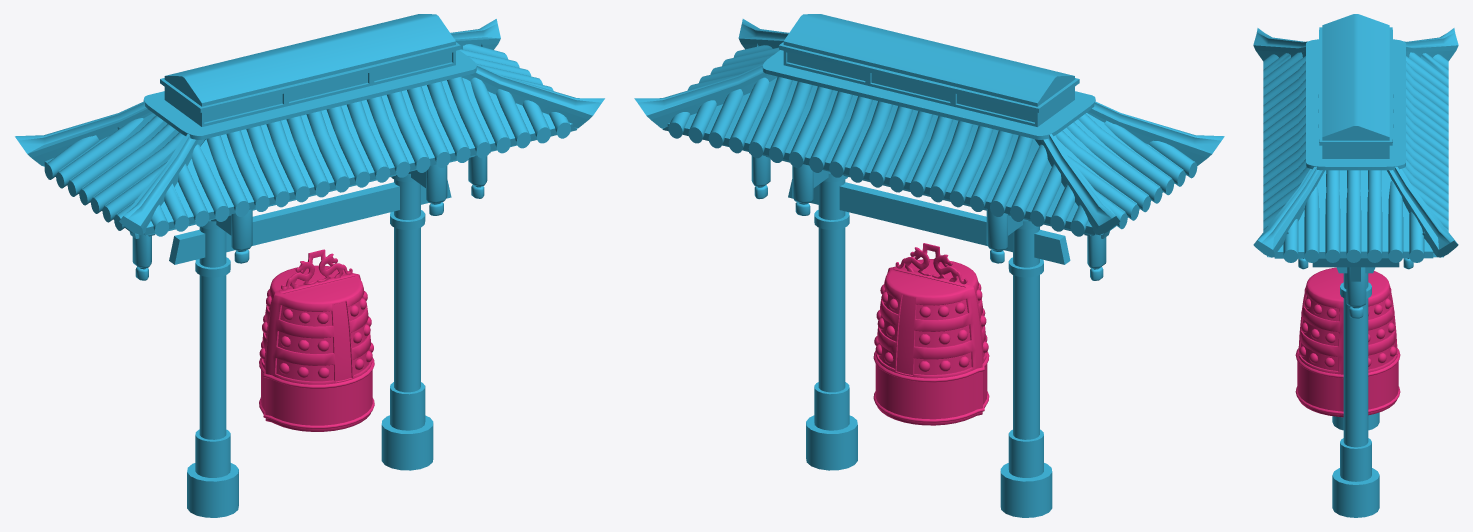
File: SM_ArchBell 1.fbx
The picture shows the model from 3 angles, left to right: view 1: azimuth 30°, elevation 25°; view 2: azimuth 150°, elevation 25°; view 3: azimuth 270°, elevation 25°; orthographic projection. The views are drawn at different scales.
Parts seen in each view (by area): view 1: Object001; view 2: Object001; view 3: Object001.
Boxes of the visible parts, x1,y1,x2,y2 form: Object001: (15,14,604,517); Object001: (634,14,1224,517); Object001: (1253,14,1458,517).
Size of the model in its own units: 876 by 759 by 358.
